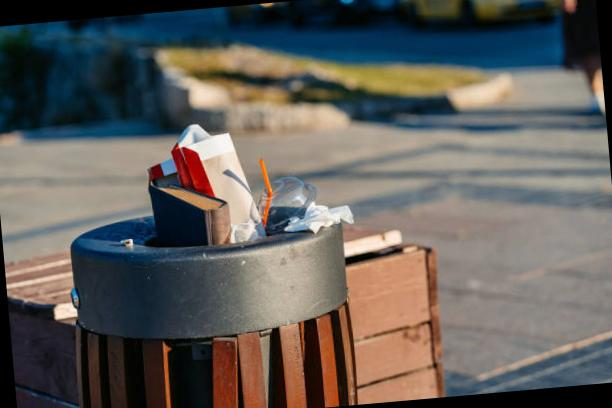trash: (116, 115, 389, 277), (138, 110, 253, 218), (142, 172, 240, 254), (241, 163, 322, 235)
trash_can_overflow: (17, 91, 465, 408)
